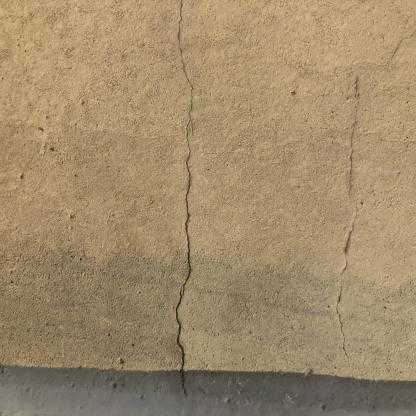crack: (174, 0, 195, 399), (347, 73, 361, 195), (334, 261, 350, 360), (343, 204, 360, 253)
